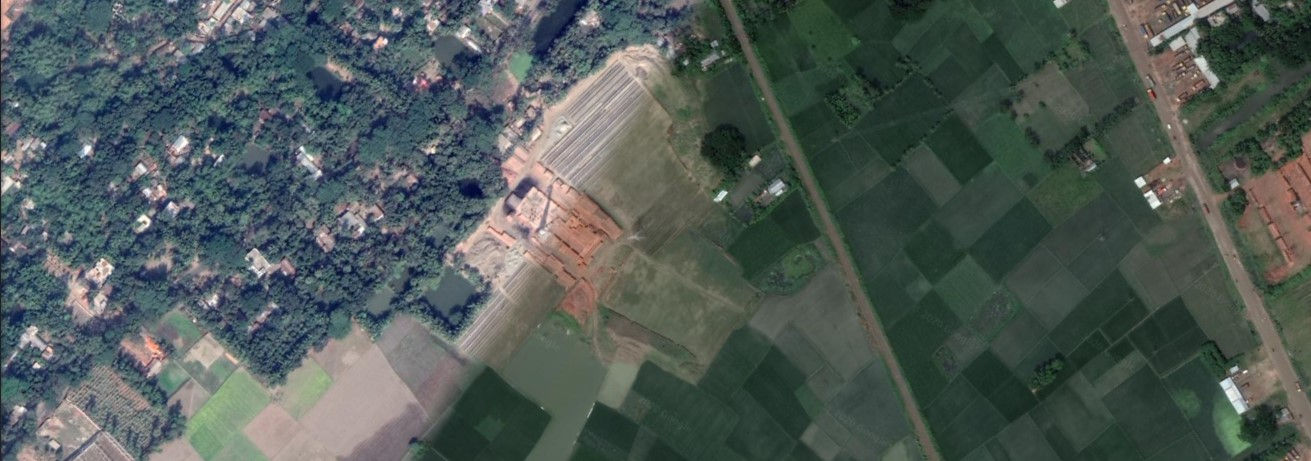kiln: (519, 178, 594, 261)
